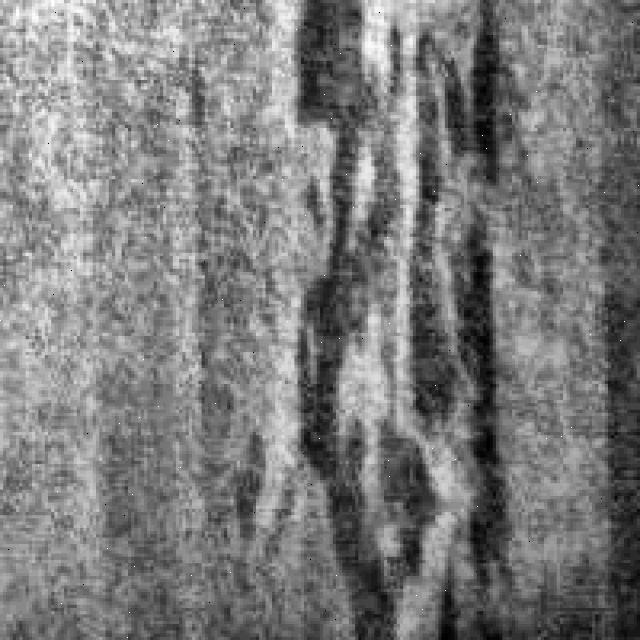Patches: (295, 0, 522, 630)
